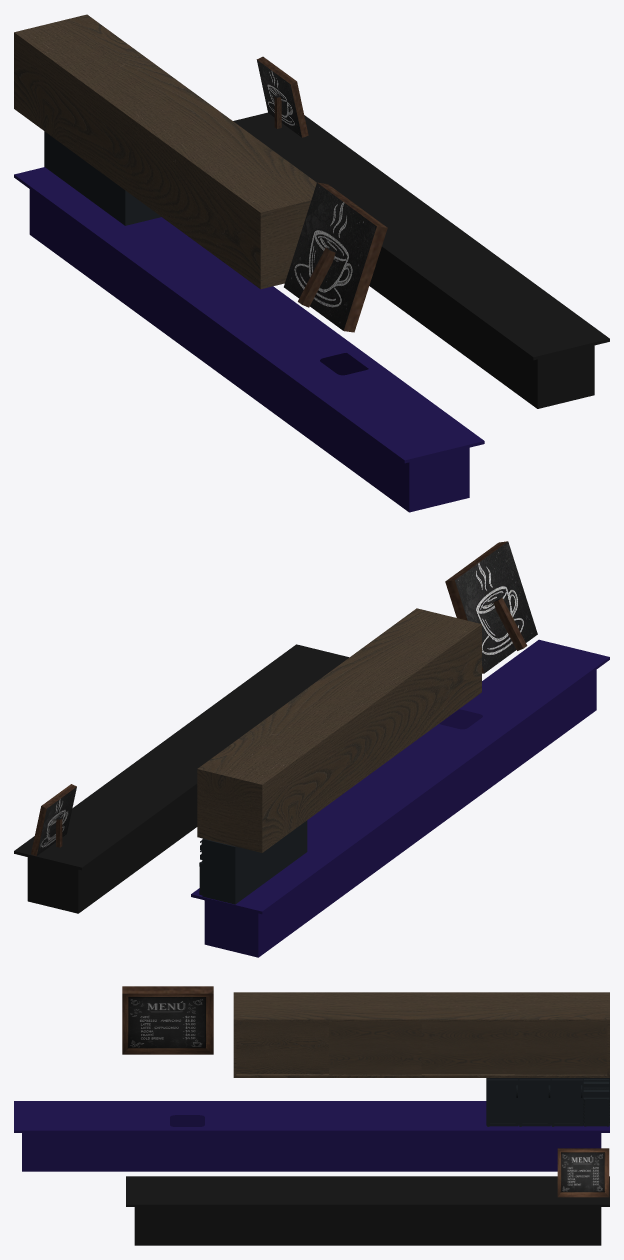
Rendered from MueblesCafe.fbx.
3 views of the same model, one above another, from view 1: azimuth 30°, elevation 25°; view 2: azimuth 150°, elevation 25°; view 3: azimuth 270°, elevation 25° (orthographic). The views are drawn at different scales.
Visible parts, largest first — view 1: BarraCafServicio, Gabeta cafeteria, BarraCaf, MenuGrande, Refrigerador, MenuChico; view 2: BarraCafServicio, Gabeta cafeteria, BarraCaf, MenuGrande, Refrigerador, MenuChico; view 3: BarraCafServicio, Gabeta cafeteria, BarraCaf, MenuGrande, Refrigerador, MenuChico.
Part boxes in pixels (x1,y1,x2,y2): BarraCafServicio: (14,167,484,512); Gabeta cafeteria: (14,14,316,289); BarraCaf: (233,112,609,408); MenuGrande: (284,182,387,332); Refrigerador: (44,131,160,225); MenuChico: (256,56,308,137); BarraCafServicio: (191,639,609,957); Gabeta cafeteria: (197,608,481,852); BarraCaf: (14,644,349,913); MenuGrande: (445,541,537,673); Refrigerador: (199,820,307,904); MenuChico: (31,784,76,855); BarraCafServicio: (14,1101,609,1171); Gabeta cafeteria: (233,992,609,1077); BarraCaf: (126,1176,609,1245); MenuGrande: (122,986,213,1054); Refrigerador: (486,1078,609,1126); MenuChico: (557,1148,609,1197).
Bounding box in the file's own units: 485 × 376 × 1157.
Materials: 4 (4 with a texture image).
